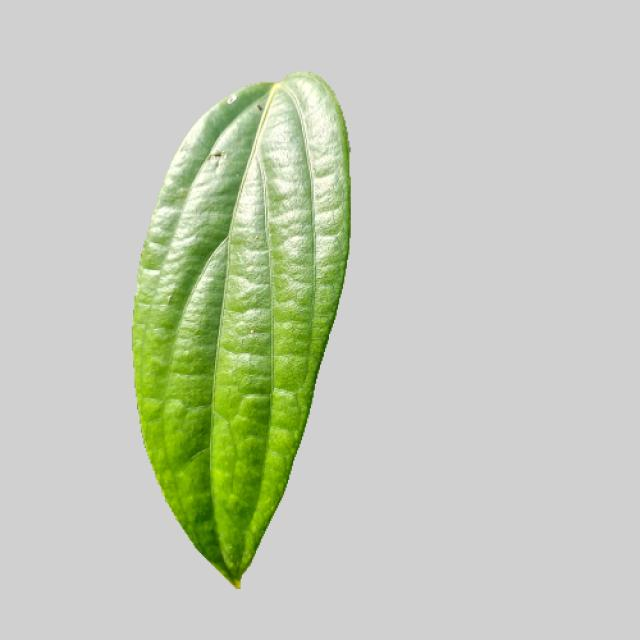healthy: (119, 64, 356, 595)
